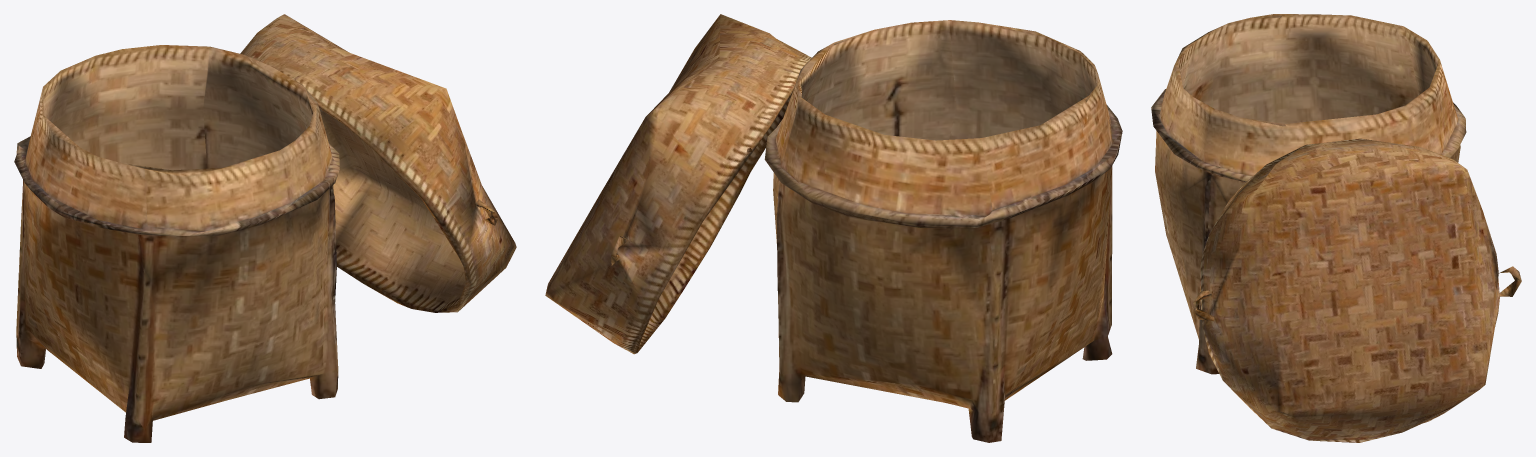
File: picnic-basket-0-far.glb
The picture shows the model from 3 angles, left to right: view 1: azimuth 30°, elevation 25°; view 2: azimuth 150°, elevation 25°; view 3: azimuth 270°, elevation 25°; orthographic projection. The views are drawn at different scales.
Visible parts, largest first — view 1: wicker_basket_02_base; view 2: wicker_basket_02_base; view 3: wicker_basket_02_base.
Boxes of the visible parts, bbox=[...] form: wicker_basket_02_base: bbox=[14, 14, 516, 442]; wicker_basket_02_base: bbox=[545, 14, 1122, 442]; wicker_basket_02_base: bbox=[1151, 14, 1521, 442].
Size of the model in its own units: 0.6181 by 0.3573 by 0.454.
1 material, 1 textured.
